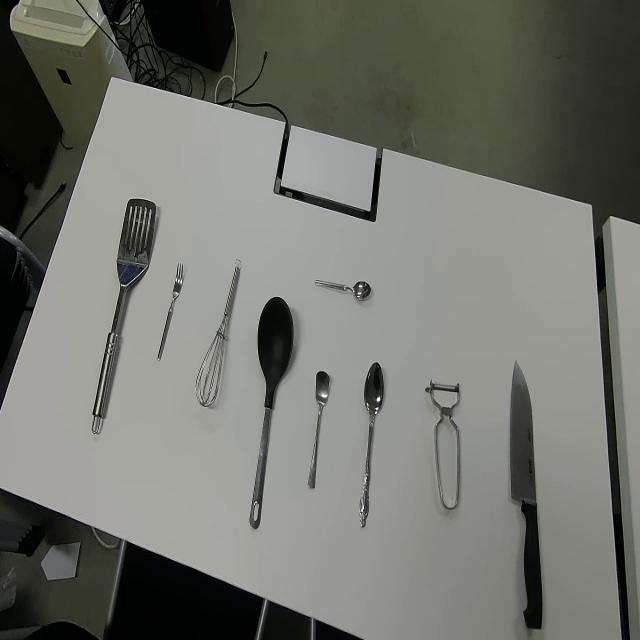Desert-Spoon: (358, 360, 386, 530)
Dinner-Fork: (156, 260, 185, 363)
Kitchen-Knife: (508, 357, 543, 632)
Peeler: (424, 377, 460, 512)
Serving-Spoon: (90, 196, 156, 436), (248, 296, 295, 530)
Tea-Spoon: (307, 367, 332, 490), (314, 276, 372, 309)
Whisk: (195, 259, 244, 411)
